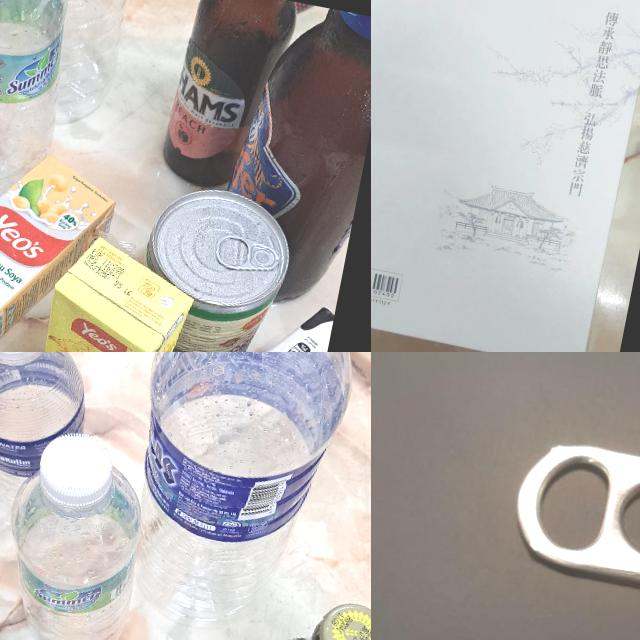aba de lata: (506, 431, 640, 604), (214, 230, 278, 276)
caixinha: (0, 250, 335, 352), (0, 135, 120, 352), (23, 229, 202, 352)
garrafa de vidro: (160, 0, 298, 193), (206, 585, 371, 640)
garrafa plástica: (114, 352, 366, 637), (0, 456, 153, 640), (0, 352, 100, 545), (0, 0, 140, 132), (0, 0, 86, 212)
lata: (125, 181, 297, 352)
papel: (371, 0, 640, 352)
tampa plástica: (32, 427, 123, 521)
